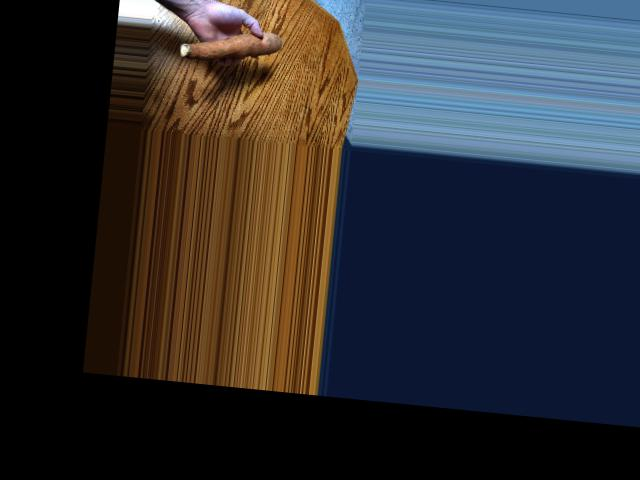sweet_potato: (182, 28, 288, 68)
